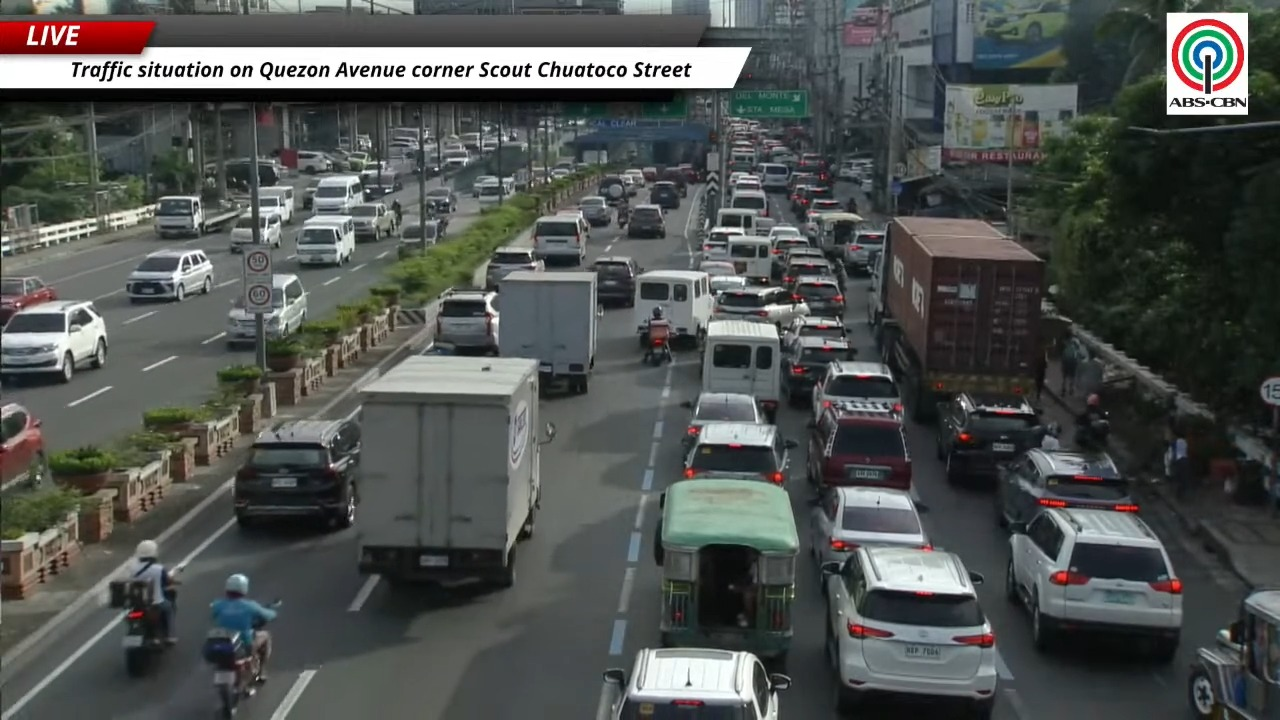car: (822, 546, 998, 719), (1006, 508, 1182, 662), (232, 411, 360, 528), (597, 648, 789, 719), (996, 448, 1138, 525), (809, 487, 931, 566), (806, 401, 911, 490), (936, 392, 1040, 481), (0, 300, 107, 382), (683, 422, 797, 485), (780, 336, 855, 406), (681, 392, 766, 453), (811, 361, 902, 417), (125, 249, 213, 302), (435, 289, 499, 353), (0, 402, 48, 486), (712, 286, 808, 326), (981, 0, 1067, 44), (264, 273, 308, 338), (0, 276, 56, 326), (589, 256, 643, 306), (486, 246, 544, 289), (781, 253, 844, 292), (770, 231, 815, 280), (790, 276, 845, 316), (397, 215, 444, 258), (842, 229, 885, 272), (350, 203, 398, 241), (782, 316, 847, 342), (803, 198, 845, 237), (696, 227, 745, 259), (627, 204, 666, 238), (597, 175, 633, 205), (796, 185, 834, 213), (779, 242, 825, 265), (578, 197, 612, 226), (658, 168, 689, 197), (257, 213, 282, 248), (649, 181, 680, 209), (426, 187, 457, 213), (297, 151, 333, 173), (709, 275, 747, 295), (729, 176, 762, 197), (695, 260, 737, 276), (768, 224, 802, 243), (789, 183, 808, 216), (788, 172, 817, 193), (472, 175, 499, 197), (345, 150, 371, 171), (302, 178, 319, 209), (623, 169, 647, 189), (837, 160, 860, 180), (620, 174, 637, 196), (641, 167, 657, 182)
motorcycle: (202, 628, 261, 719), (121, 580, 173, 677), (1074, 413, 1110, 449), (642, 335, 672, 366), (643, 338, 672, 366), (617, 206, 628, 227)
truck: (356, 355, 554, 587), (868, 216, 1045, 421), (499, 270, 599, 393), (153, 195, 245, 238), (582, 150, 608, 165)
